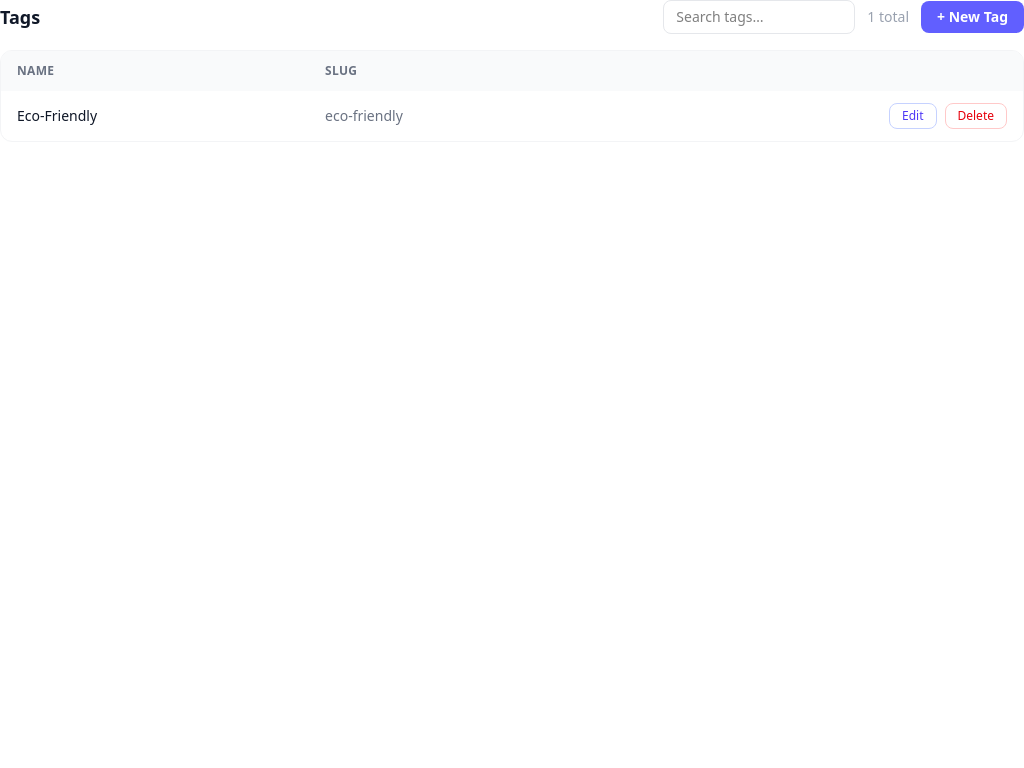
it: TagsTab › creates a tag via the modal and adds it to the list
This screenshot has width=1024, height=768.
Expected: the text "Eco-Friendly" is shown, [1,91,309,141]
Click the button "+ New Tag". click: (972, 17)
box: [921,1,1023,33]
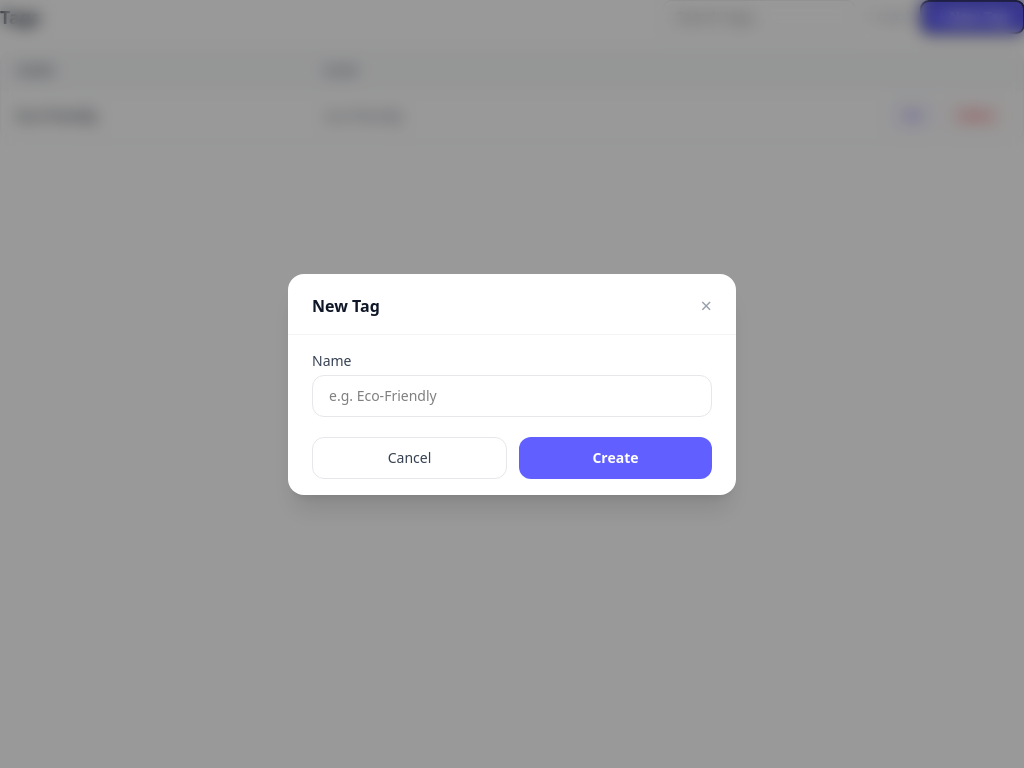
Type "Waterproof" into the field labelled "Name". click: (512, 396)
box: [312,374,712,416]
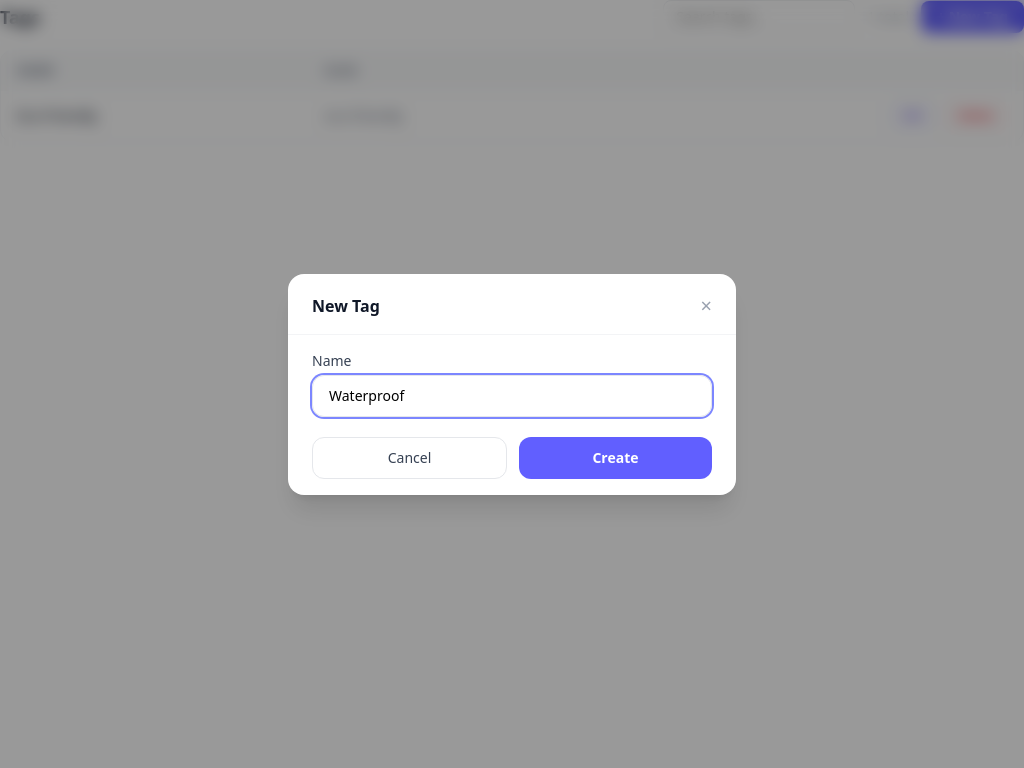
Click the button "Create". click: (616, 458)
box: [519,436,712,478]
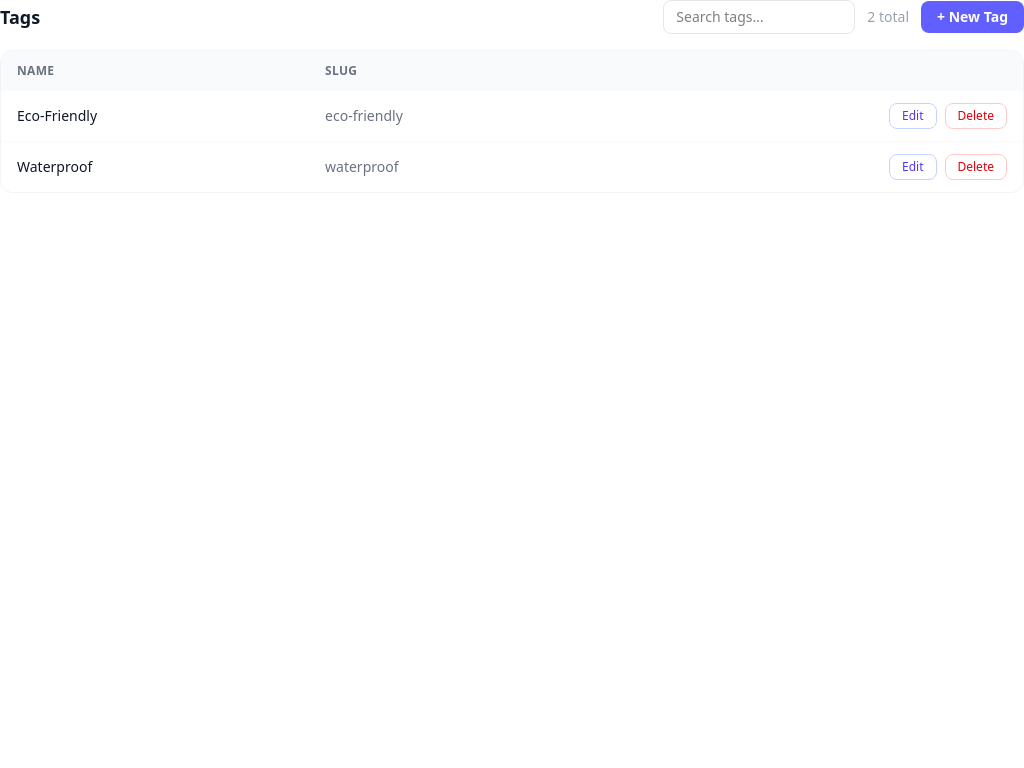
Expected: the text "Waterproof" is shown, [1,142,309,192]
